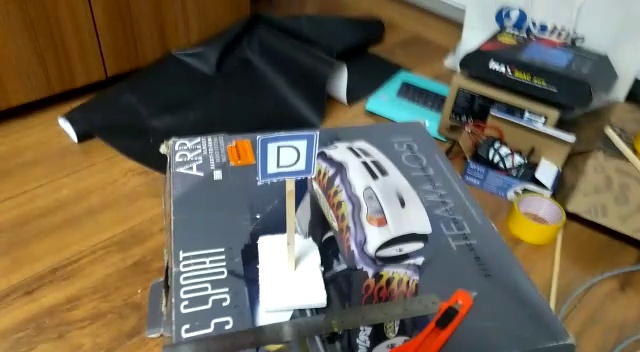durak: (252, 132, 320, 185)
